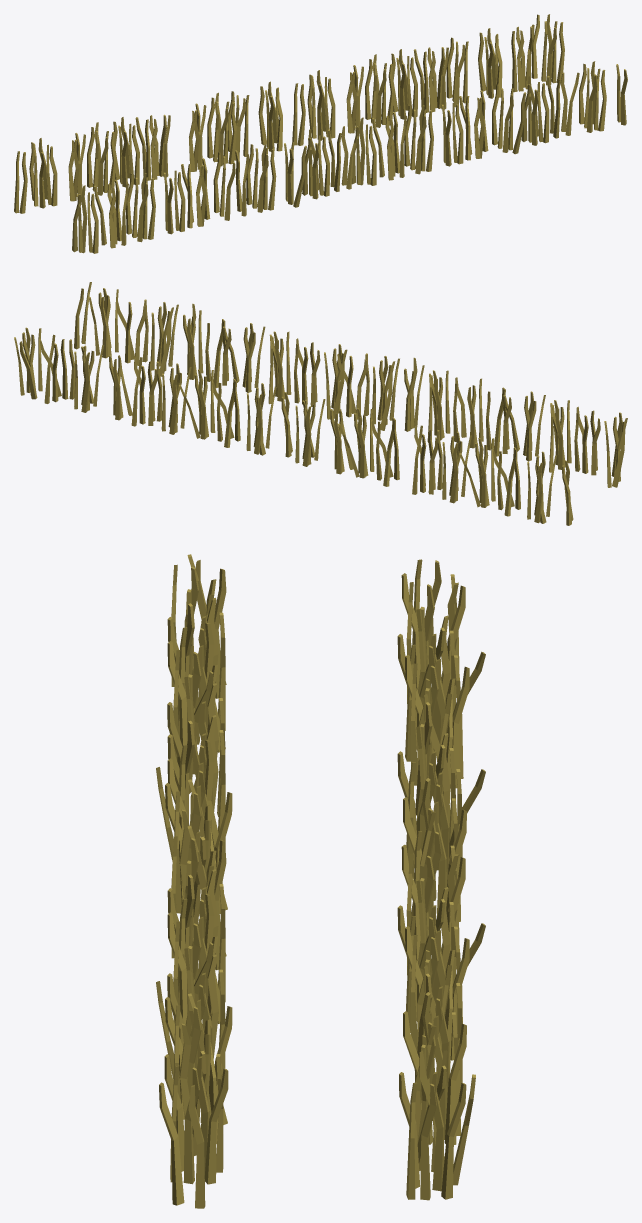
Rendered from Farm_FirstAge_Level1_Wheat.glb.
The picture shows the model from 3 angles, top to bottom: view 1: azimuth 30°, elevation 25°; view 2: azimuth 150°, elevation 25°; view 3: azimuth 270°, elevation 25°; orthographic projection. The views are drawn at different scales.
Parts seen in each view (by area): view 1: Farm_FirstAge_Level1_Wheat; view 2: Farm_FirstAge_Level1_Wheat; view 3: Farm_FirstAge_Level1_Wheat.
Part boxes in pixels (box(x1,y1,x2,y2)): Farm_FirstAge_Level1_Wheat: box(14, 14, 627, 253); Farm_FirstAge_Level1_Wheat: box(14, 282, 627, 525); Farm_FirstAge_Level1_Wheat: box(156, 554, 485, 1208).
Bounding box in the file's own units: 1.6 × 0.1857 × 0.4164.
